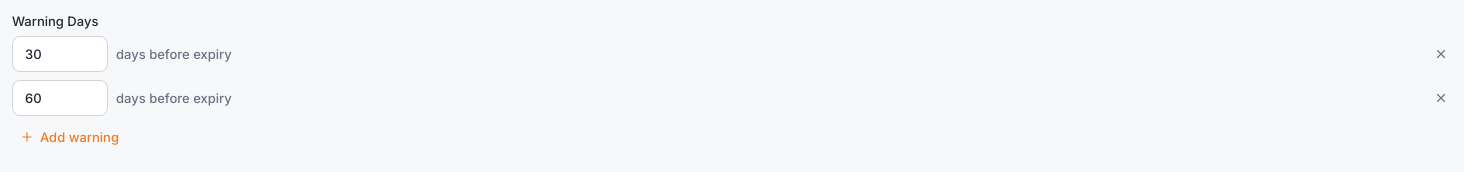
Test: FieldRenderer › warning-days removes a warning when remove button is clicked
expect the field with test id "test-field-warningDays-0" is shown: met, box [12,36,108,72]
expect the field with test id "test-field-warningDays-1" is shown: met, box [12,80,108,116]
Click the button named "Remove warning day 30".
click(1441, 54)  # box [1430,43,1452,65]
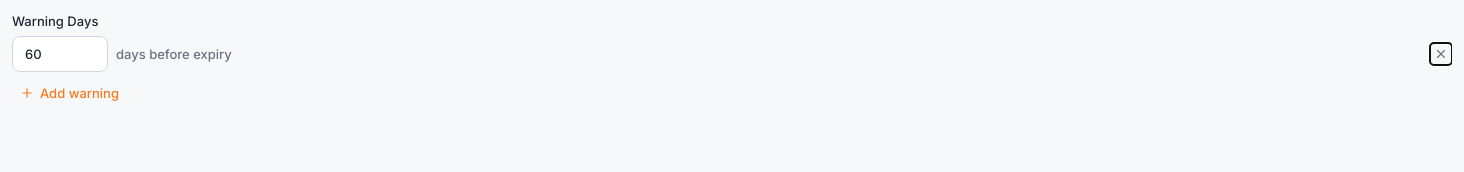
expect the field with test id "test-field-warningDays-0" is shown: met, box [12,36,108,72]
expect the field with test id "test-field-warningDays-1" is gone: met
